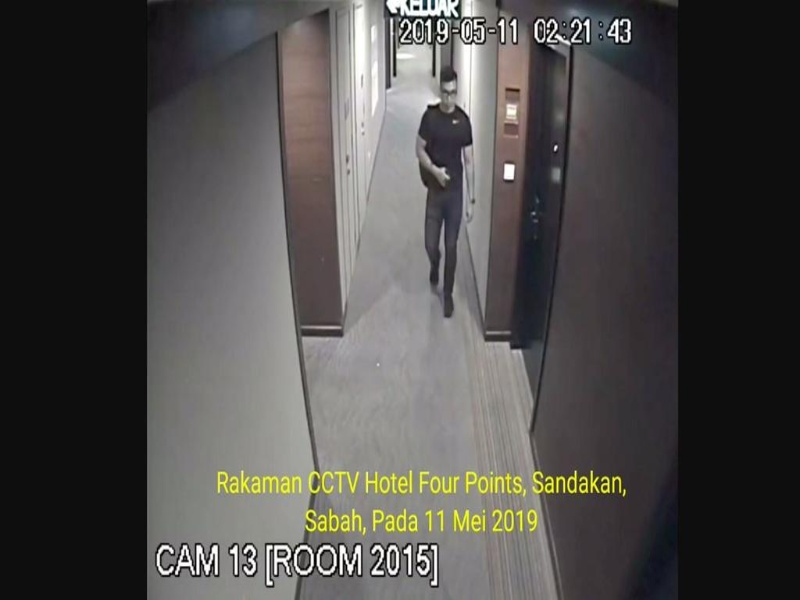person: (414, 63, 475, 333)
